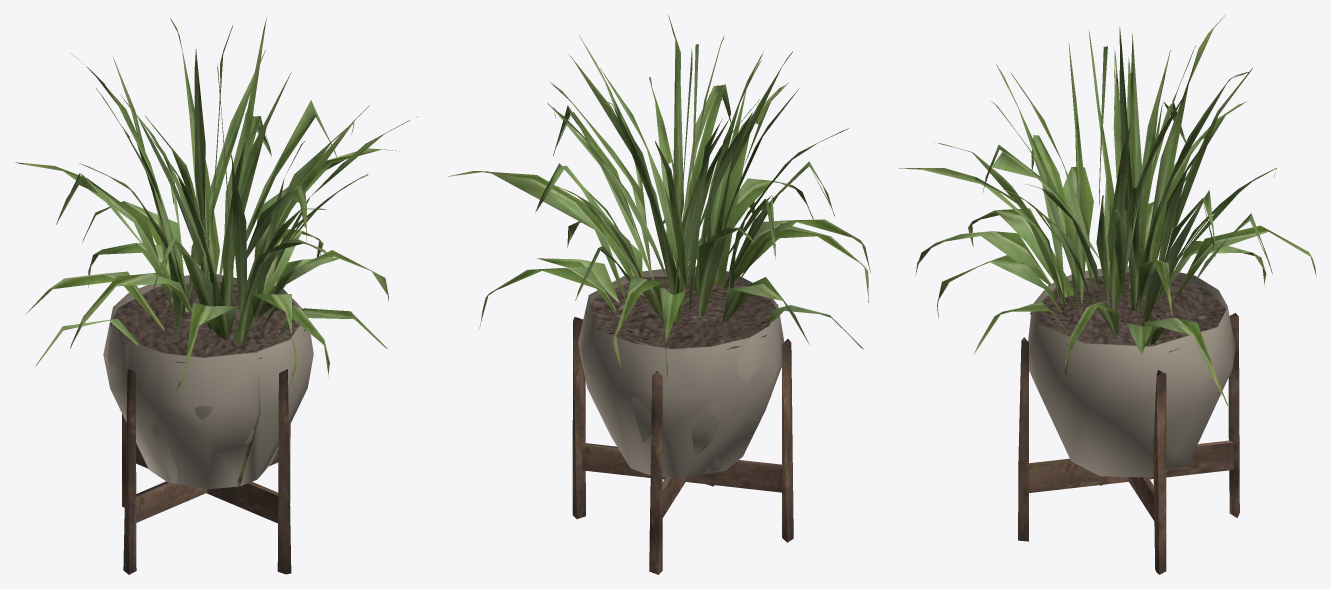
Rendered from Plant0012.obj.
The picture shows the model from 3 angles, left to right: view 1: azimuth 30°, elevation 25°; view 2: azimuth 150°, elevation 25°; view 3: azimuth 270°, elevation 25°; orthographic projection.
Bounding box in the file's own units: 0.946 × 1.17 × 0.868.
Materials: 1 (1 with a texture image).
